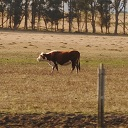vaca: (32, 47, 85, 75)
